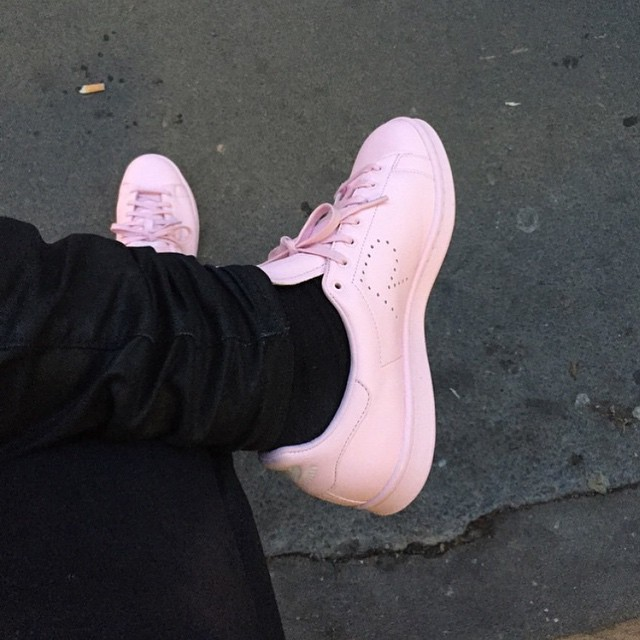sneaker: (218, 102, 482, 548), (100, 142, 211, 281)
